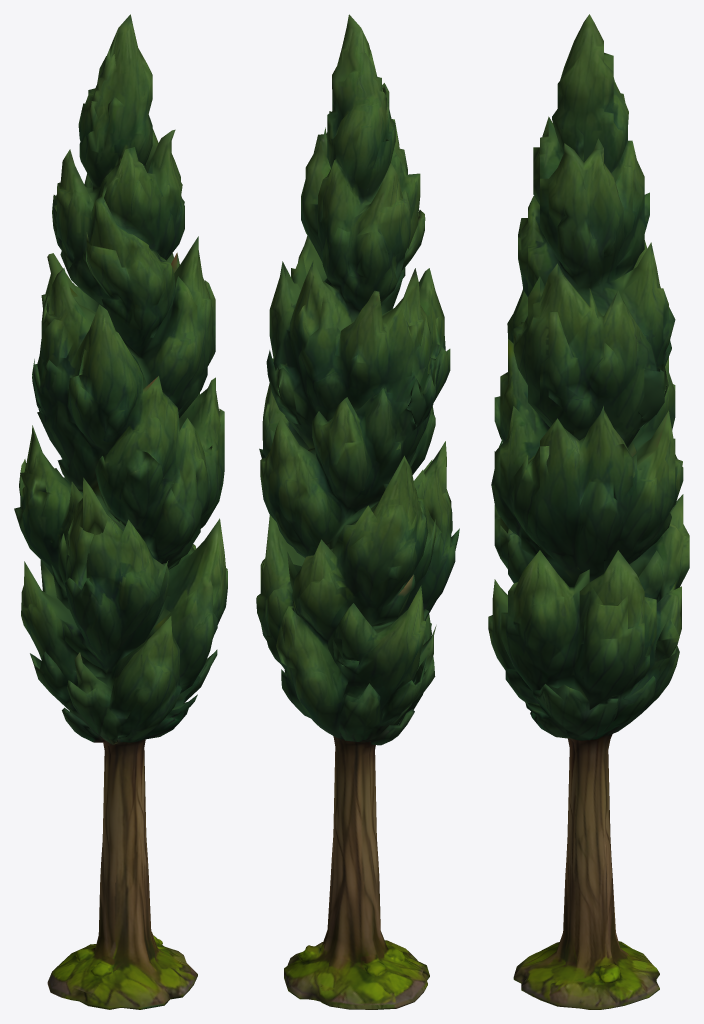
The model's file is tree_b.glb.
The picture shows the model from 3 angles, left to right: view 1: azimuth 30°, elevation 25°; view 2: azimuth 150°, elevation 25°; view 3: azimuth 270°, elevation 25°; orthographic projection.
Parts seen in each view (by area): view 1: material; view 2: material; view 3: material.
Boxes of the visible parts, x1,y1,x2,y2 form: material: [14, 14, 227, 1009]; material: [256, 14, 459, 1009]; material: [488, 14, 689, 1009].
Size of the model in its own units: 0.3437 by 1.9 by 0.3573.
Materials: 1 (1 with a texture image).
